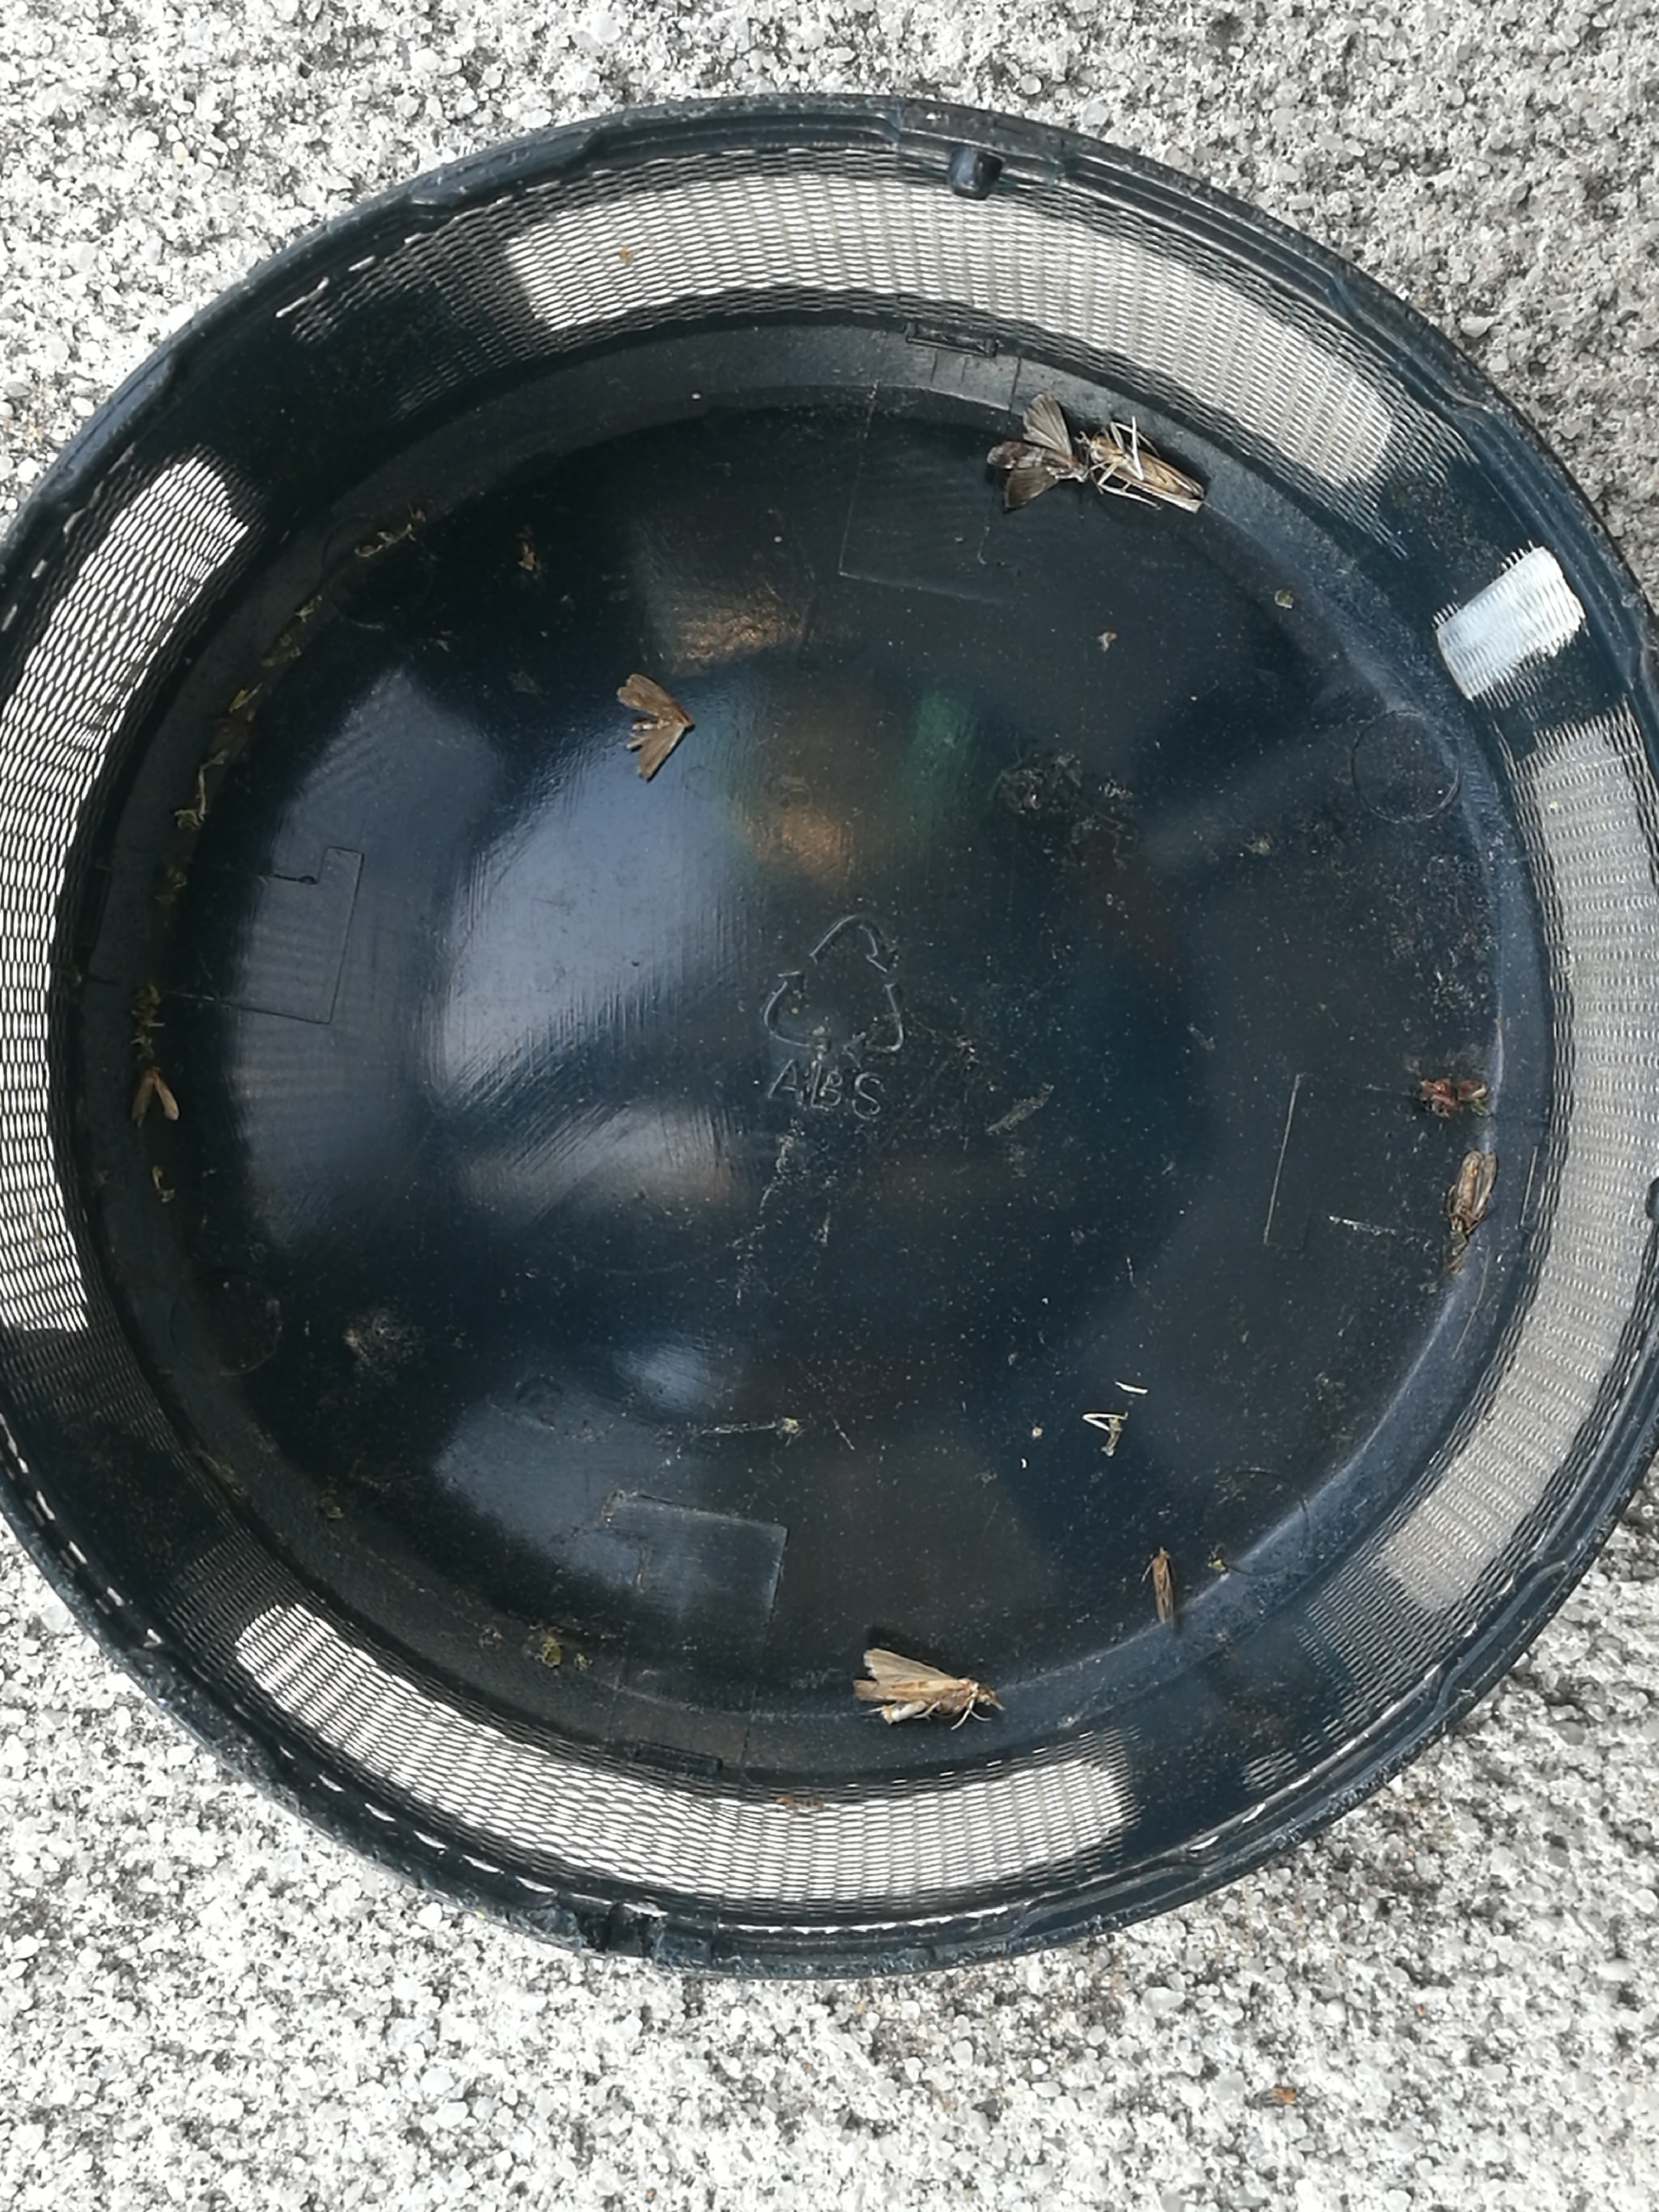mosquito: (1087, 437, 1206, 512)
moth: (988, 395, 1087, 510), (854, 1649, 986, 1719), (617, 674, 688, 780), (1450, 1148, 1497, 1233), (132, 1068, 179, 1123)
